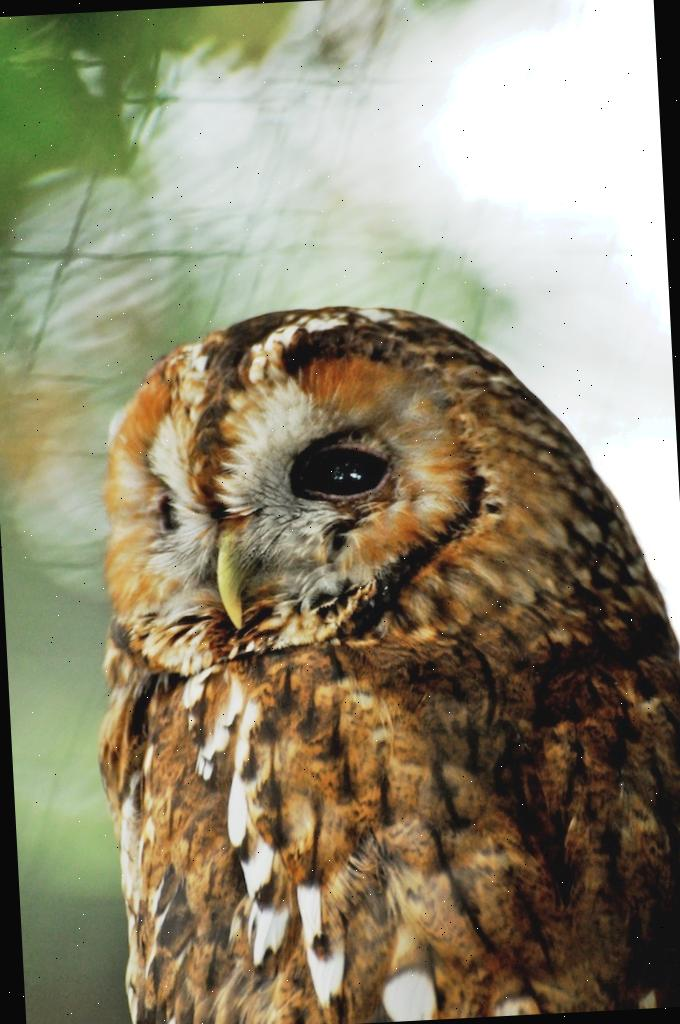Owl: (73, 292, 680, 1024)
